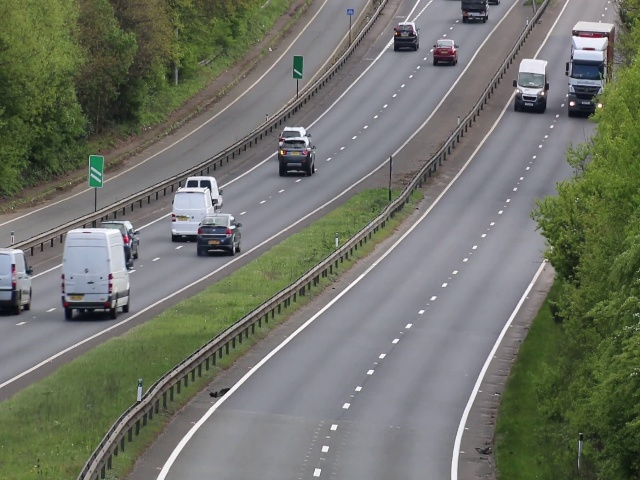car: (63, 230, 130, 317), (570, 20, 610, 119), (1, 248, 34, 310), (173, 189, 212, 239), (515, 57, 548, 113), (197, 215, 241, 254), (106, 220, 140, 263), (282, 140, 314, 176), (392, 20, 420, 53), (434, 39, 458, 67)
